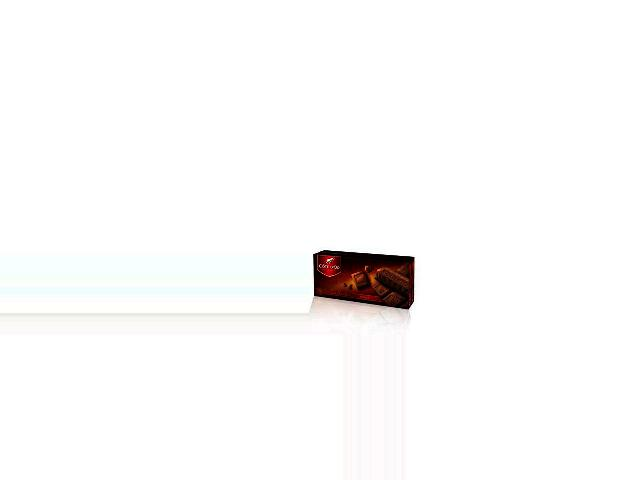chocolate: (313, 249, 412, 310)
